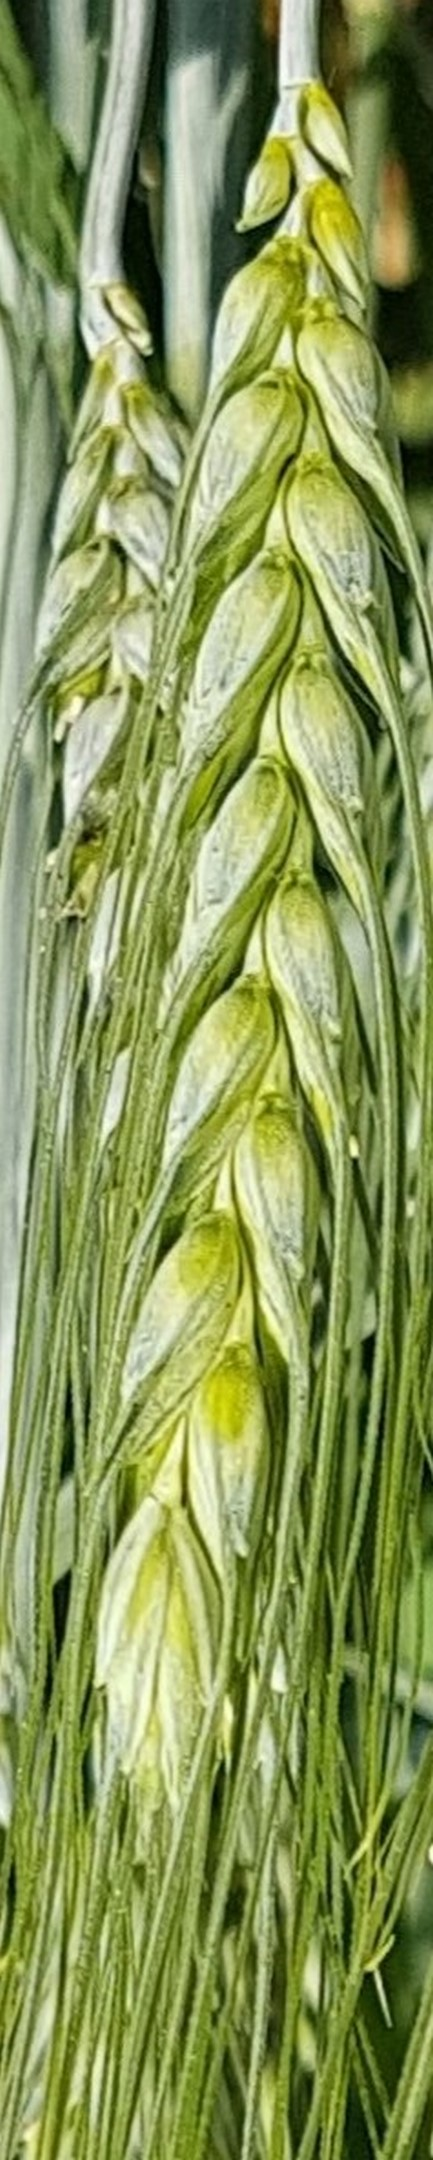Healthy Wheat: (61, 134, 433, 1849)
